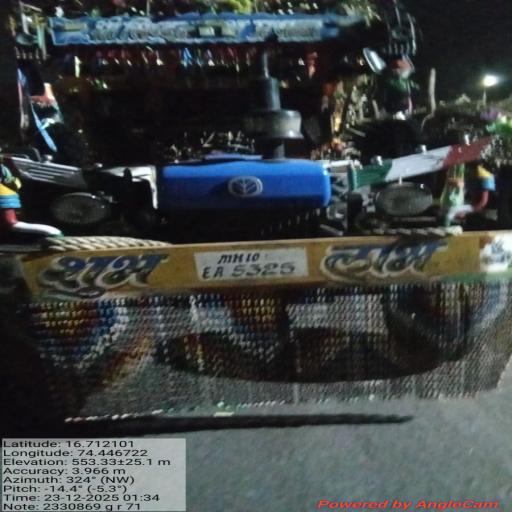number_plate: (188, 242, 342, 289)
